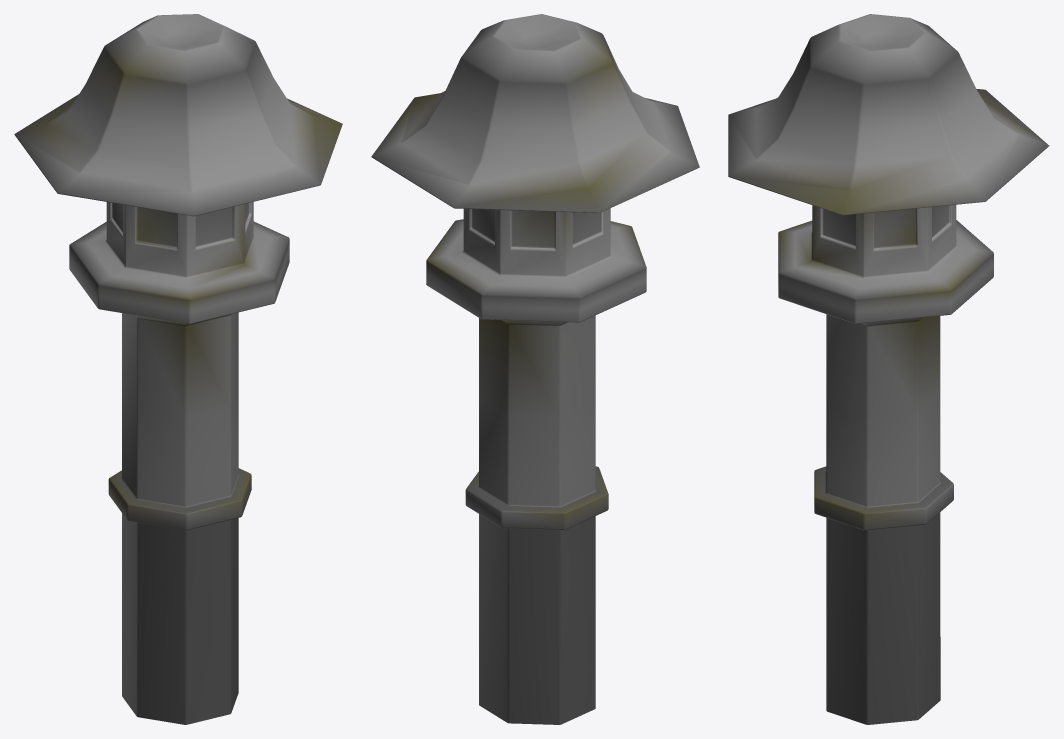
File: lantern 1.fbx
3 renders of one model, left to right at view 1: azimuth 30°, elevation 25°; view 2: azimuth 150°, elevation 25°; view 3: azimuth 270°, elevation 25°, orthographic.
Visible parts, largest first — view 1: Cylinder; view 2: Cylinder; view 3: Cylinder.
Part boxes in pixels (x1,y1,x2,y2): Cylinder: [14, 14, 342, 724]; Cylinder: [371, 14, 699, 724]; Cylinder: [728, 14, 1049, 724].
Size of the model in its own units: 117 by 262 by 114.
